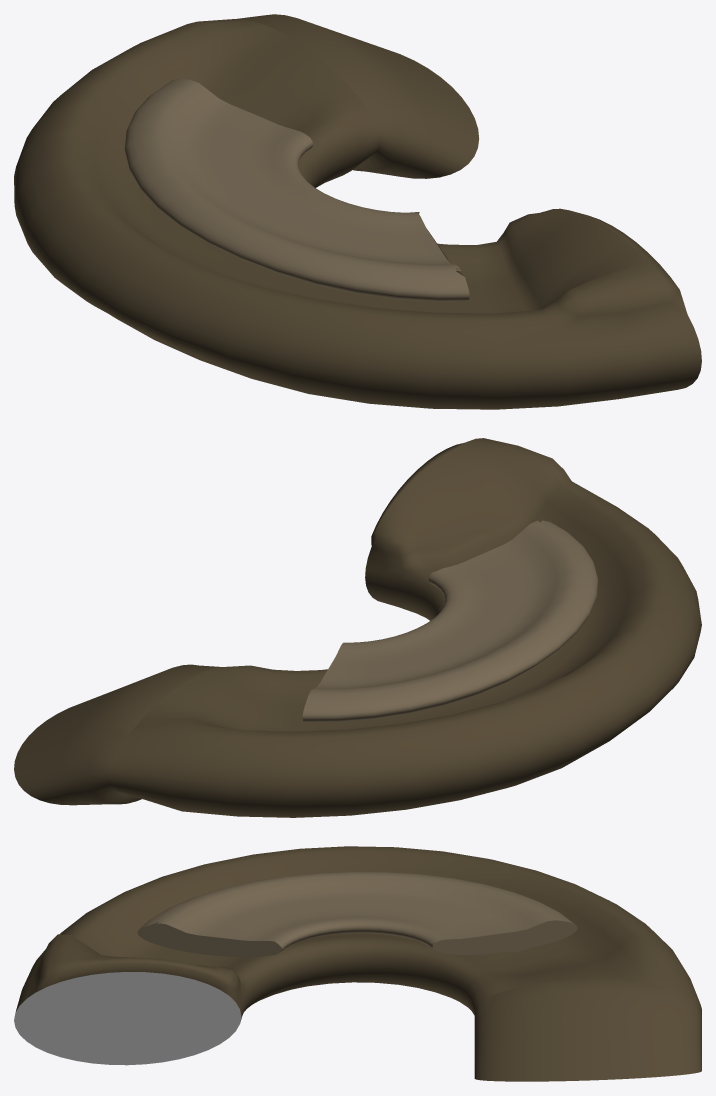
Rendered from chair1 1.fbx.
3 views of the same model, one above another, from view 1: azimuth 30°, elevation 25°; view 2: azimuth 150°, elevation 25°; view 3: azimuth 270°, elevation 25° (orthographic). The views are drawn at different scales.
Visible parts, largest first — view 1: pTorus6; view 2: pTorus6; view 3: pTorus6.
Boxes of the visible parts, box(x1,y1,x2,y2) form: pTorus6: box(14, 14, 701, 409); pTorus6: box(14, 438, 701, 817); pTorus6: box(14, 846, 701, 1081).
Size of the model in its own units: 1.97 by 0.5052 by 2.99.
